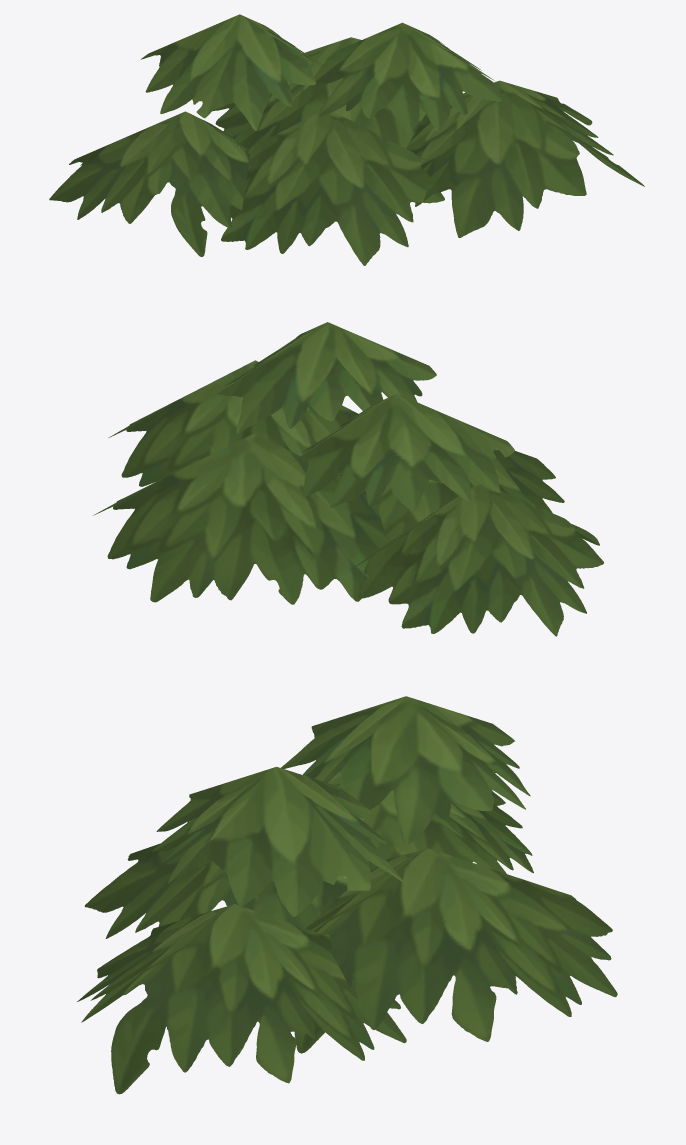
Rendered from Bush_A.fbx.
3 views of the same model, one above another, from view 1: azimuth 30°, elevation 25°; view 2: azimuth 150°, elevation 25°; view 3: azimuth 270°, elevation 25° (orthographic). The views are drawn at different scales.
Visible parts, largest first — view 1: Bush_A; view 2: Bush_A; view 3: Bush_A.
Part boxes in pixels (<box>): Bush_A: <box>49,14,644,265</box>; Bush_A: <box>93,322,603,636</box>; Bush_A: <box>77,696,617,1094</box>.
Bounding box in the file's own units: 228 × 70.97 × 194.
